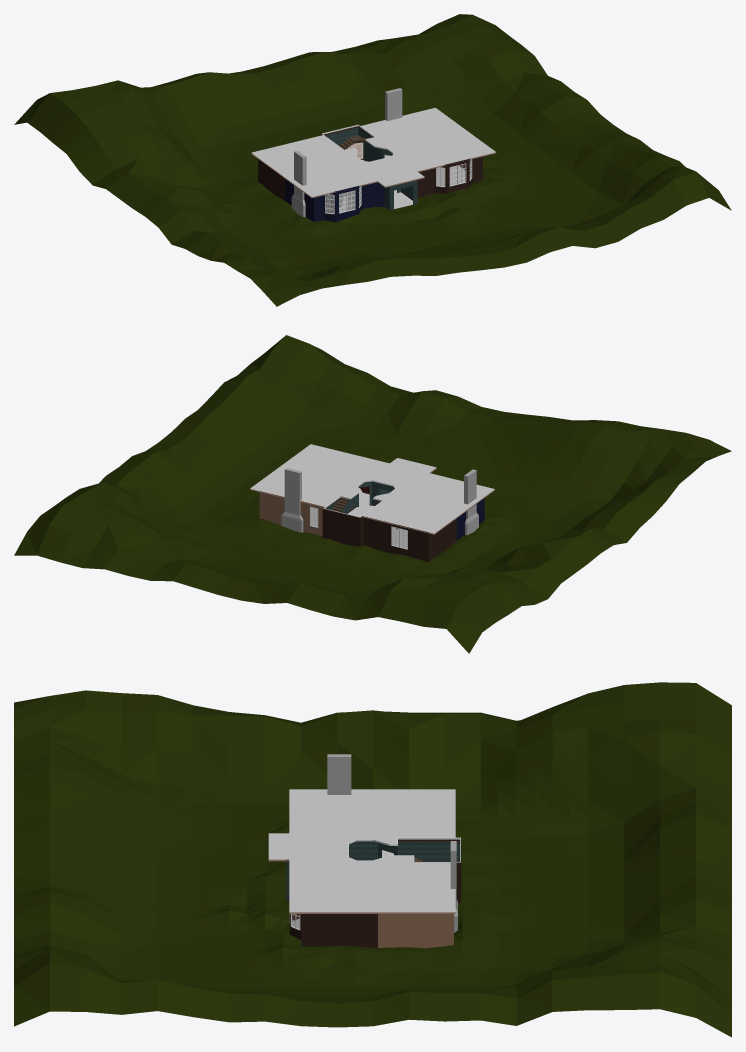
Rendered from house.fbx.
3 renders of one model, top to bottom at view 1: azimuth 30°, elevation 25°; view 2: azimuth 150°, elevation 25°; view 3: azimuth 270°, elevation 25°, orthographic. The views are drawn at different scales.
Visible parts, largest first — view 1: terrain, dining_floor1, kitchen_floor1, salon_floor1, billiards_floor1, salon_walls, hall_floor1, dining_walls, hearth (×2), hall_walls, billiards_walls, entry_walls; view 2: terrain, billiards_walls, dining_floor1, billiards_floor1, salon_floor1, hearth (×2), hall_walls, kitchen_floor1, hall_floor1, kitchen_walls; view 3: terrain, dining_floor1, salon_floor1, kitchen_floor1, billiards_floor1, hall_floor1, dining_walls, kitchen_walls, hall_walls, hearth.
Part boxes in pixels (left/top/right/bottom): terrain: left=14, top=14, right=731, bottom=306; dining_floor1: left=398, top=128, right=495, bottom=171; kitchen_floor1: left=360, top=107, right=463, bottom=145; salon_floor1: left=280, top=158, right=387, bottom=196; billiards_floor1: left=251, top=135, right=345, bottom=173; salon_walls: left=285, top=179, right=384, bottom=222; hall_floor1: left=342, top=137, right=424, bottom=186; dining_walls: left=417, top=156, right=482, bottom=197; hearth (×2): left=291, top=88, right=402, bottom=217; hall_walls: left=321, top=126, right=392, bottom=161; billiards_walls: left=258, top=159, right=285, bottom=201; entry_walls: left=384, top=180, right=417, bottom=210; terrain: left=14, top=335, right=731, bottom=653; billiards_walls: left=363, top=516, right=456, bottom=561; dining_floor1: left=278, top=444, right=389, bottom=483; billiards_floor1: left=362, top=496, right=462, bottom=533; salon_floor1: left=400, top=470, right=494, bottom=512; hearth (×2): left=281, top=468, right=478, bottom=535; hall_walls: left=322, top=481, right=394, bottom=546; kitchen_floor1: left=250, top=468, right=348, bottom=506; hall_floor1: left=341, top=458, right=436, bottom=500; kitchen_walls: left=259, top=491, right=324, bottom=535; terrain: left=14, top=682, right=731, bottom=1037; dining_floor1: left=289, top=859, right=377, bottom=912; salon_floor1: left=289, top=789, right=377, bottom=839; kitchen_floor1: left=377, top=862, right=455, bottom=912; billiards_floor1: left=377, top=789, right=455, bottom=837; hall_floor1: left=268, top=831, right=413, bottom=868; dining_walls: left=289, top=914, right=377, bottom=948; kitchen_walls: left=378, top=914, right=453, bottom=948; hall_walls: left=349, top=838, right=461, bottom=902; hearth: left=327, top=754, right=351, bottom=794.
Size of the model in its own units: 80 by 12.05 by 80.
